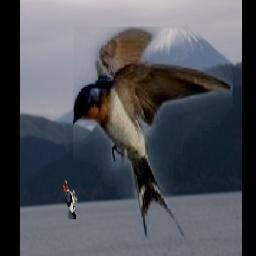Swallow: (73, 27, 233, 246)
Woodpecker: (63, 180, 77, 220)
